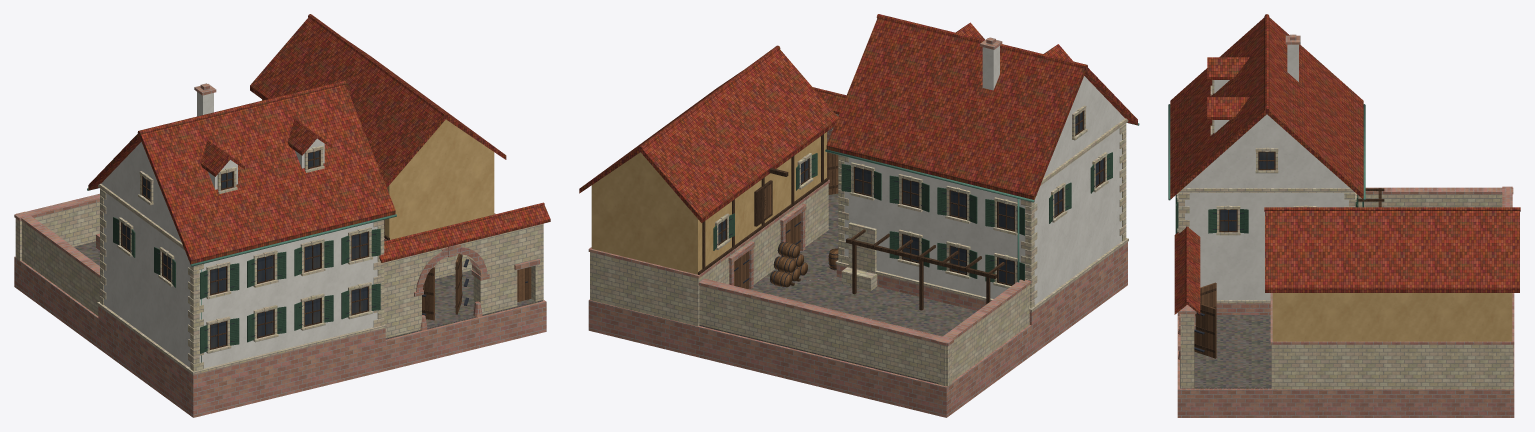
The model's file is weingut_estate.glb.
3 renders of one model, left to right at view 1: azimuth 30°, elevation 25°; view 2: azimuth 150°, elevation 25°; view 3: azimuth 270°, elevation 25°, orthographic. The views are drawn at different scales.
Visible parts, largest first — view 1: Weingut_roof_clay, Weingut_sandstone_red, Weingut_sandstone_yellow, Weingut_stucco, Weingut_stucco_wing, Weingut_shutter_green, Weingut_glass_warm, Weingut_wood_dark, Weingut_cobble, Weingut_wood_barn, Weingut_copper; view 2: Weingut_roof_clay, Weingut_sandstone_yellow, Weingut_sandstone_red, Weingut_stucco, Weingut_stucco_wing, Weingut_cobble, Weingut_wood_dark, Weingut_shutter_green, Weingut_glass_warm, Weingut_wood_barn, Weingut_barrel, Weingut_copper (+1 smaller); view 3: Weingut_roof_clay, Weingut_sandstone_yellow, Weingut_stucco, Weingut_sandstone_red, Weingut_stucco_wing, Weingut_cobble, Weingut_wood_barn, Weingut_wood_dark, Weingut_shutter_green, Weingut_copper, Weingut_glass_warm.
Part boxes in pixels (<box>): Weingut_roof_clay: <box>88,14,550,264</box>; Weingut_sandstone_red: <box>14,83,546,417</box>; Weingut_sandstone_yellow: <box>15,145,543,374</box>; Weingut_stucco: <box>101,92,377,368</box>; Weingut_stucco_wing: <box>262,99,494,239</box>; Weingut_shutter_green: <box>113,217,380,353</box>; Weingut_glass_warm: <box>122,151,367,348</box>; Weingut_wood_dark: <box>121,150,462,349</box>; Weingut_cobble: <box>74,241,542,339</box>; Weingut_wood_barn: <box>422,254,531,320</box>; Weingut_copper: <box>87,188,396,362</box>; Weingut_roof_clay: <box>579,14,1137,222</box>; Weingut_sandstone_yellow: <box>590,105,1128,386</box>; Weingut_sandstone_red: <box>588,37,1127,417</box>; Weingut_stucco: <box>844,46,1124,304</box>; Weingut_stucco_wing: <box>591,132,826,274</box>; Weingut_cobble: <box>699,193,976,383</box>; Weingut_wood_dark: <box>698,110,1104,310</box>; Weingut_shutter_green: <box>713,152,1112,282</box>; Weingut_glass_warm: <box>718,112,1103,284</box>; Weingut_wood_barn: <box>734,141,838,288</box>; Weingut_barrel: <box>769,242,838,286</box>; Weingut_copper: <box>825,122,1139,282</box>; Weingut_roof_clay: <box>1170,14,1520,314</box>; Weingut_sandstone_yellow: <box>1176,80,1513,389</box>; Weingut_stucco: <box>1179,44,1353,300</box>; Weingut_sandstone_red: <box>1177,34,1514,417</box>; Weingut_stucco_wing: <box>1272,293,1512,341</box>; Weingut_cobble: <box>1180,315,1271,388</box>; Weingut_wood_barn: <box>1194,282,1216,358</box>; Weingut_wood_dark: <box>1194,151,1384,352</box>; Weingut_shutter_green: <box>1175,195,1358,233</box>; Weingut_copper: <box>1168,104,1365,207</box>; Weingut_glass_warm: <box>1220,152,1274,230</box>.
Size of the model in its own units: 20.9 by 14.71 by 18.52.
13 materials, 13 textured.
